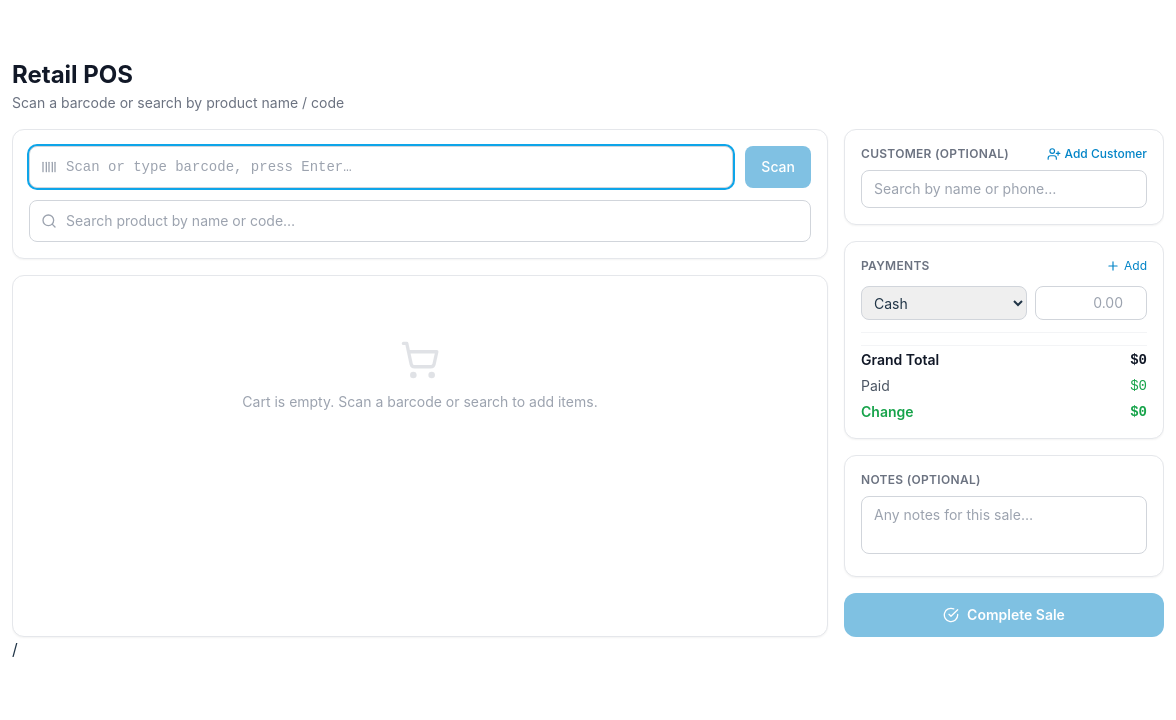
Test: Retail POS › previews remaining length and wastage when the actual cut is longer than billed
The image size is (1176, 720).
Step 1. Type "0828156987886" into the field labelled "barcode" → (381, 167), box x1=29 y1=146 x2=733 y2=188
Then press Enter
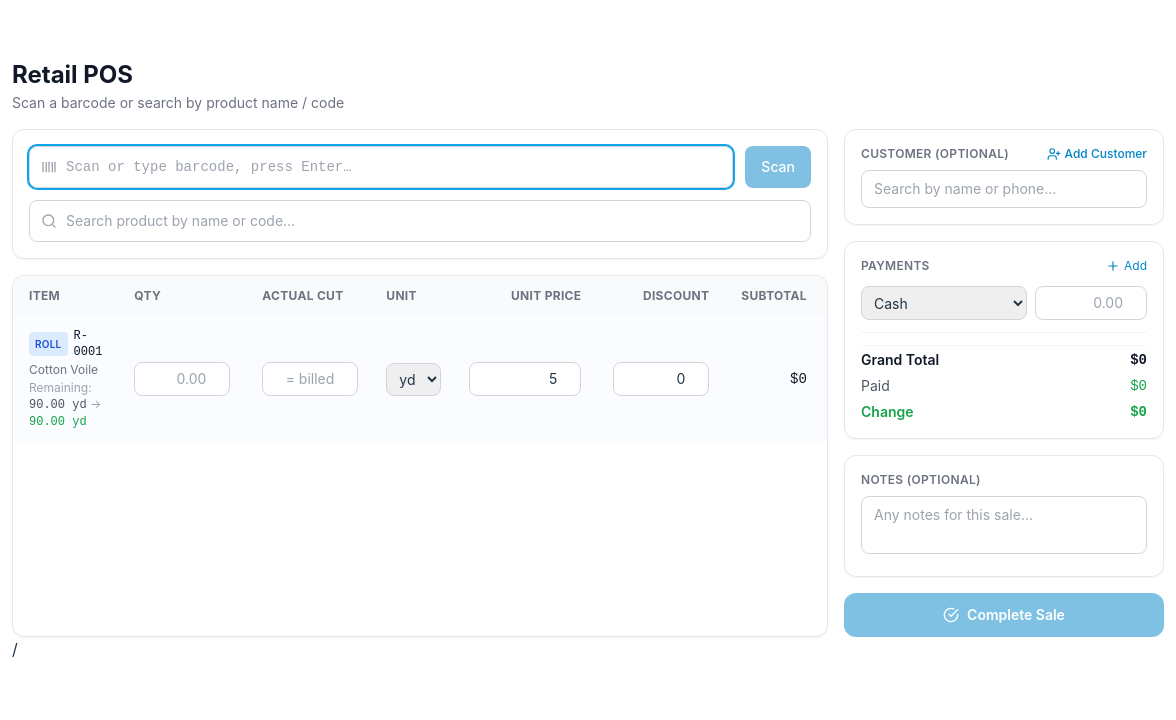
Check: the text "R-0001" is shown, box x1=74 y1=328 x2=102 y2=360
Step 2. Type "3" into the number field with placeholder "0.00" below "Roll" → (182, 379), box x1=134 y1=362 x2=230 y2=396
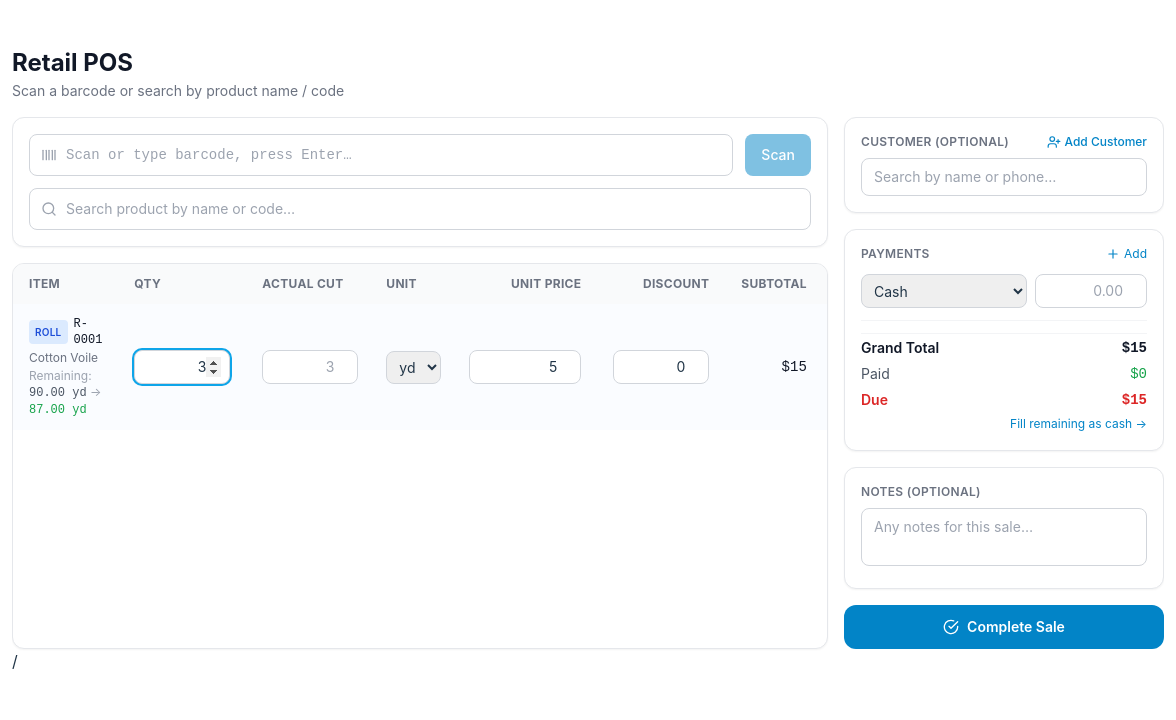
Step 3. Type "3.25" into the number field named "Actual cut for R-0001" → (310, 367), box x1=262 y1=350 x2=358 y2=384
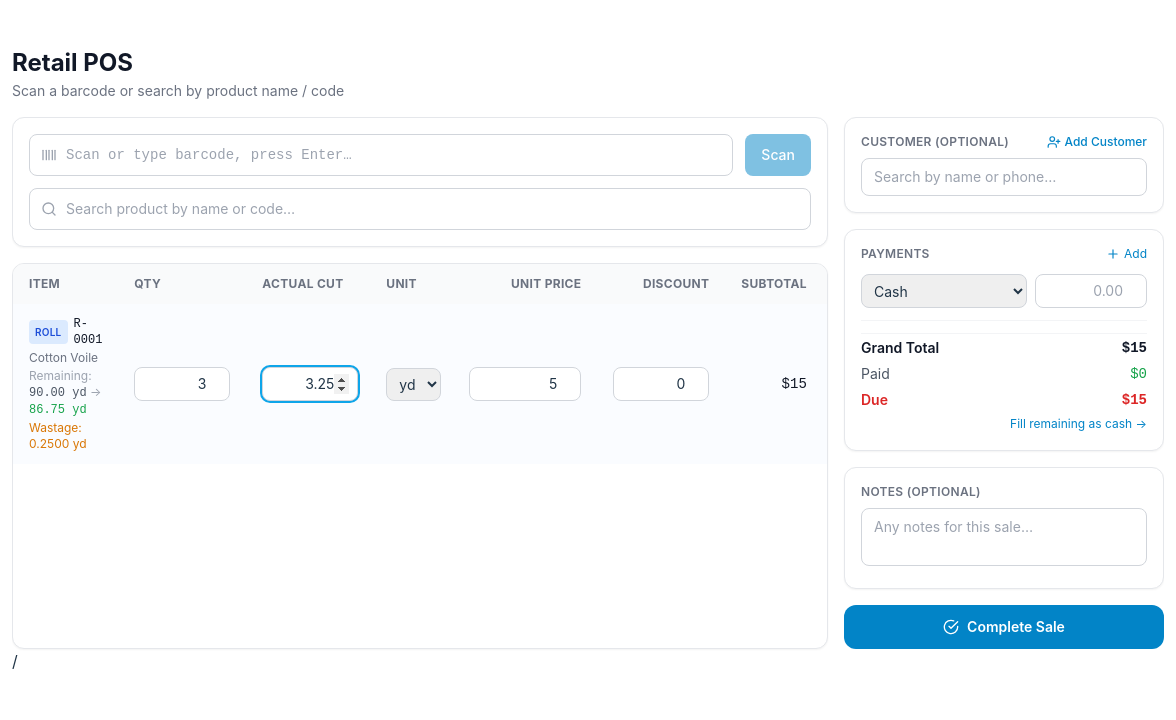
Check: the text "Wastage: 0.2500 yd" is shown, box x1=29 y1=420 x2=86 y2=451
Check: the text "86.75 yd" is shown, box x1=29 y1=403 x2=87 y2=417
